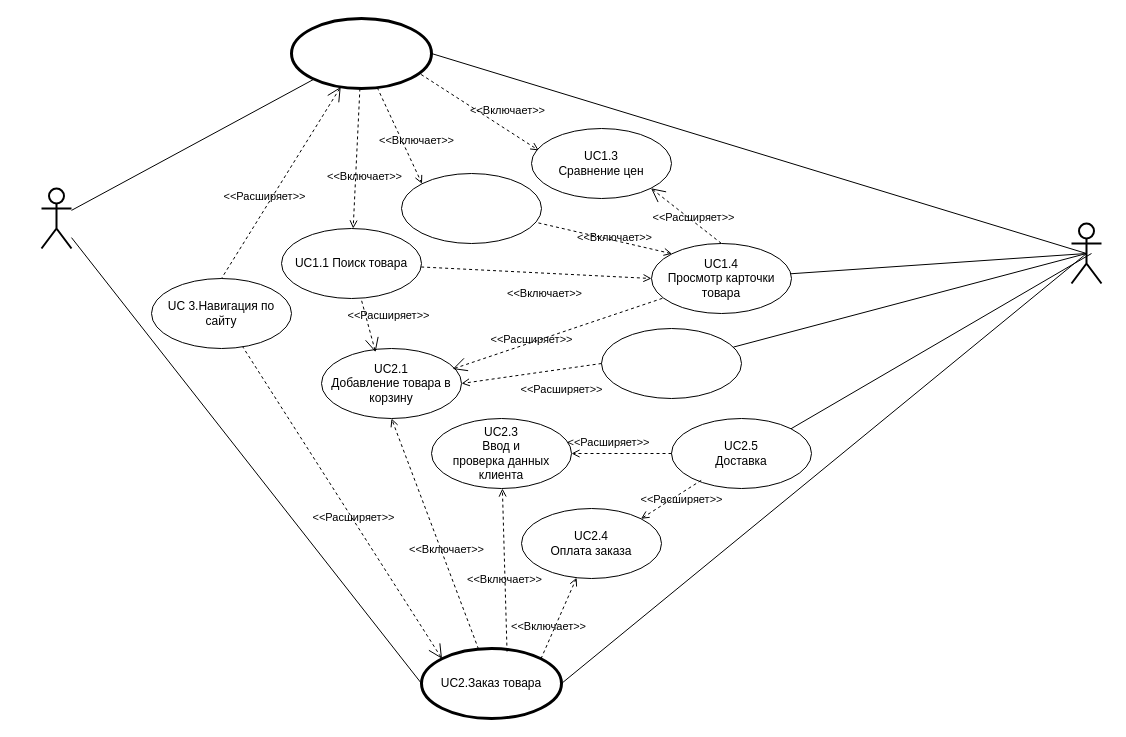
Image size: 1126x737. Some labels were removed from this diagram. Each missing label, with the centre of its shape:
UC1. Просмотр Товаров: point 361,53
UC1.2 Фильтрация товаров по параметрам: point 471,208
UC2.2 Проверка наличия товара: point 671,363
Магазин: point 1086,253
Пользователь: point 56,218
